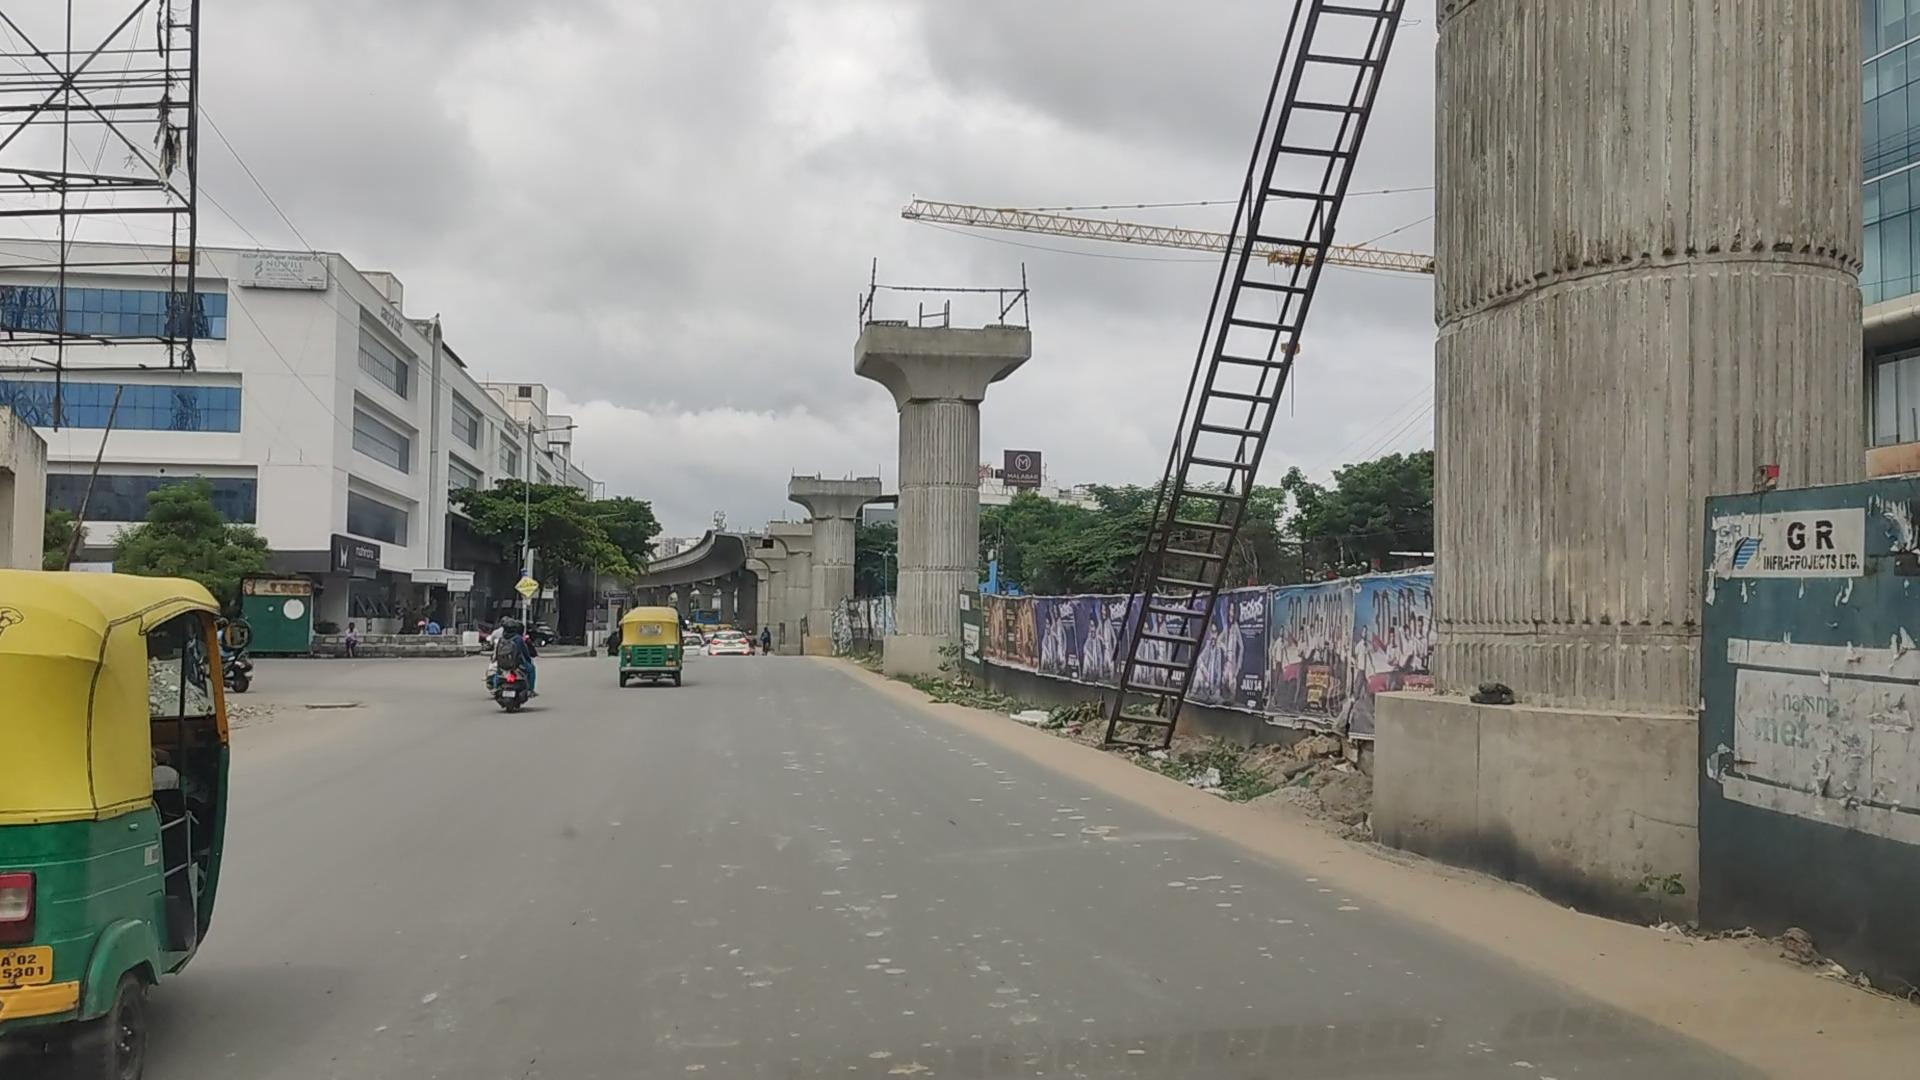LMV: (479, 616, 537, 709), (615, 608, 676, 683)
RoadDamages: (310, 688, 373, 721)
